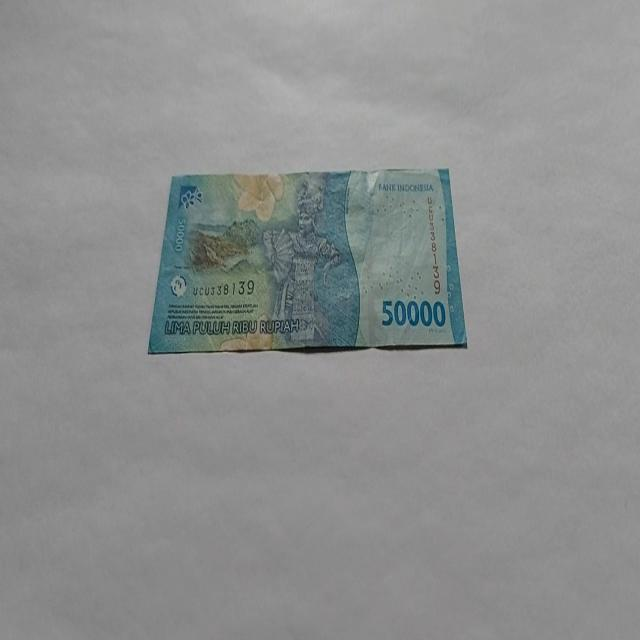lima puluh ribu rupiah: (146, 166, 468, 356)
